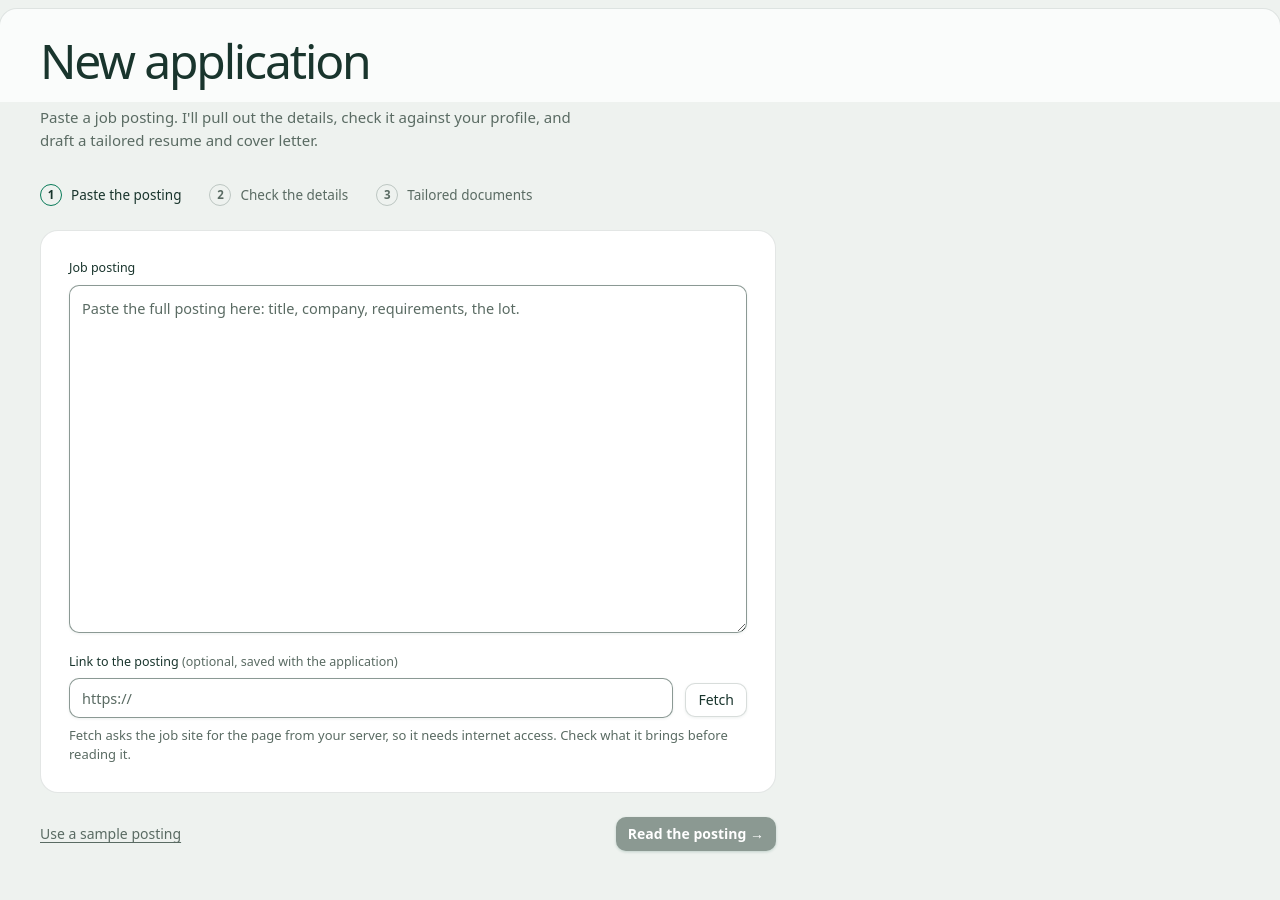
the reading step (E7-2) › shows the job's own steps as they happen
Step 1. Type "Ledgerly is hiring." into the text box labelled "Job posting" → (408, 459), box [69,285,747,633]
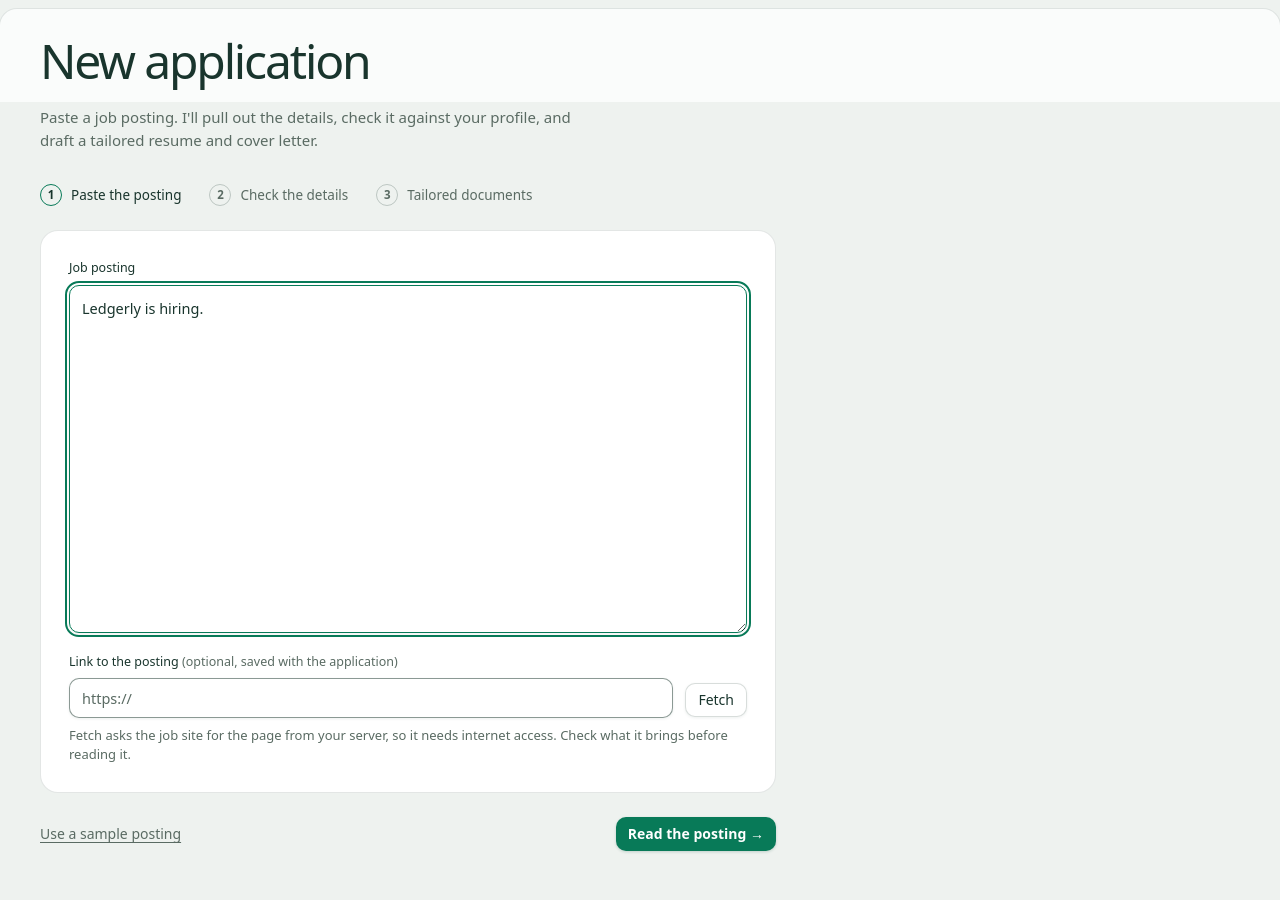
Step 2. Click the button "Read the posting →" → (696, 834), box [616,817,776,851]
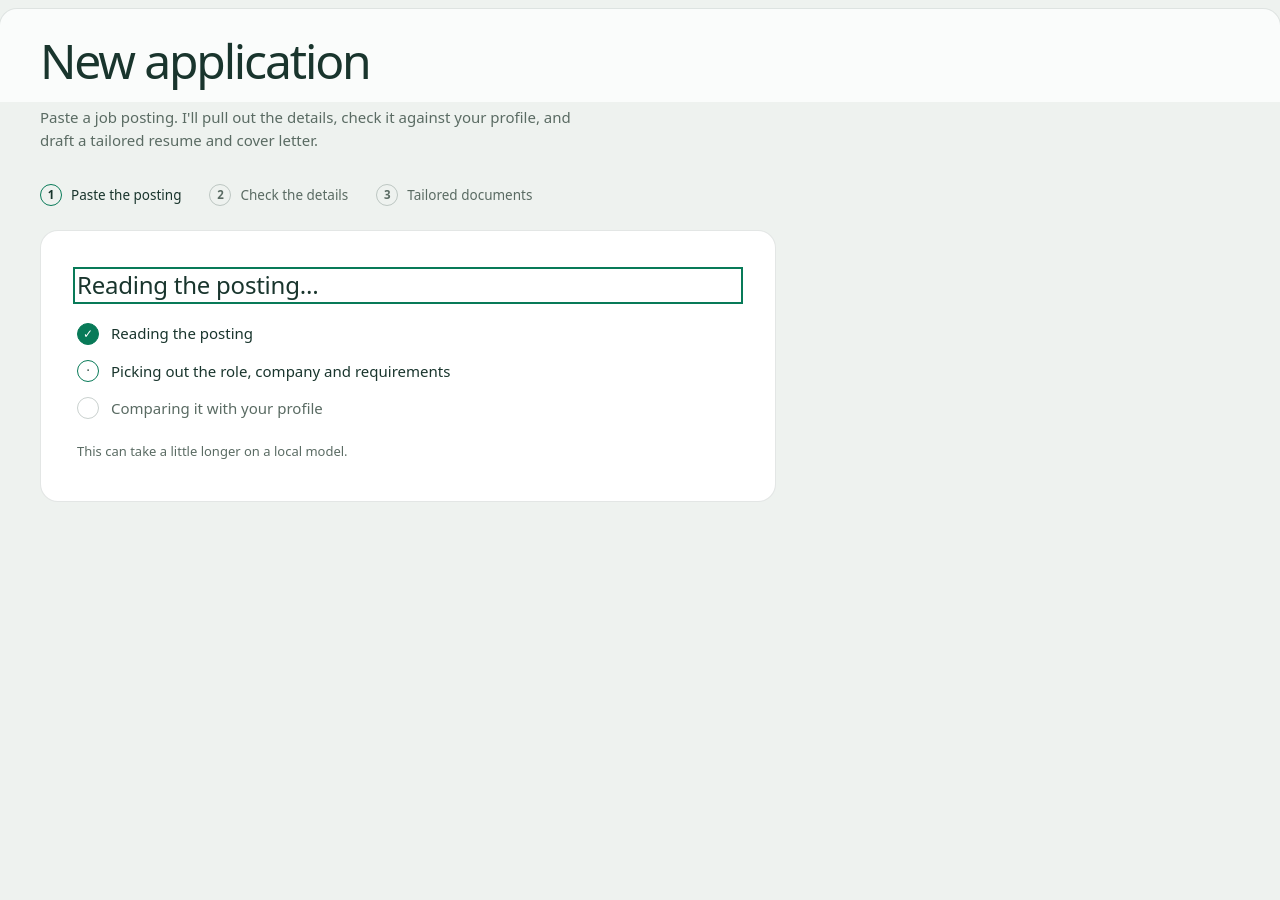
expect the heading "Reading the posting…" is shown: met, box [77,268,318,302]
expect the text "This can take a little longer on a local model." is shown: met, box [77,442,348,460]
